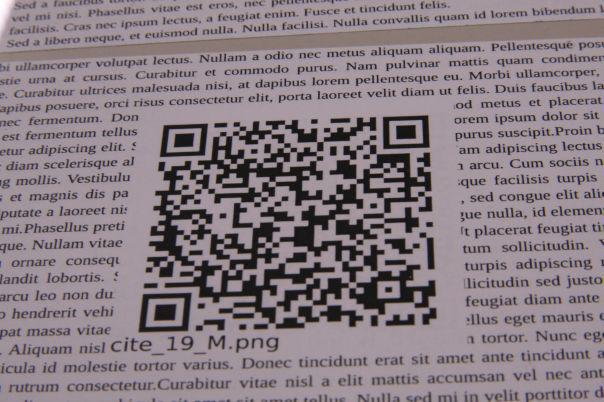Finder pattern: (135, 289, 196, 334), (378, 112, 438, 154), (157, 119, 211, 160)
